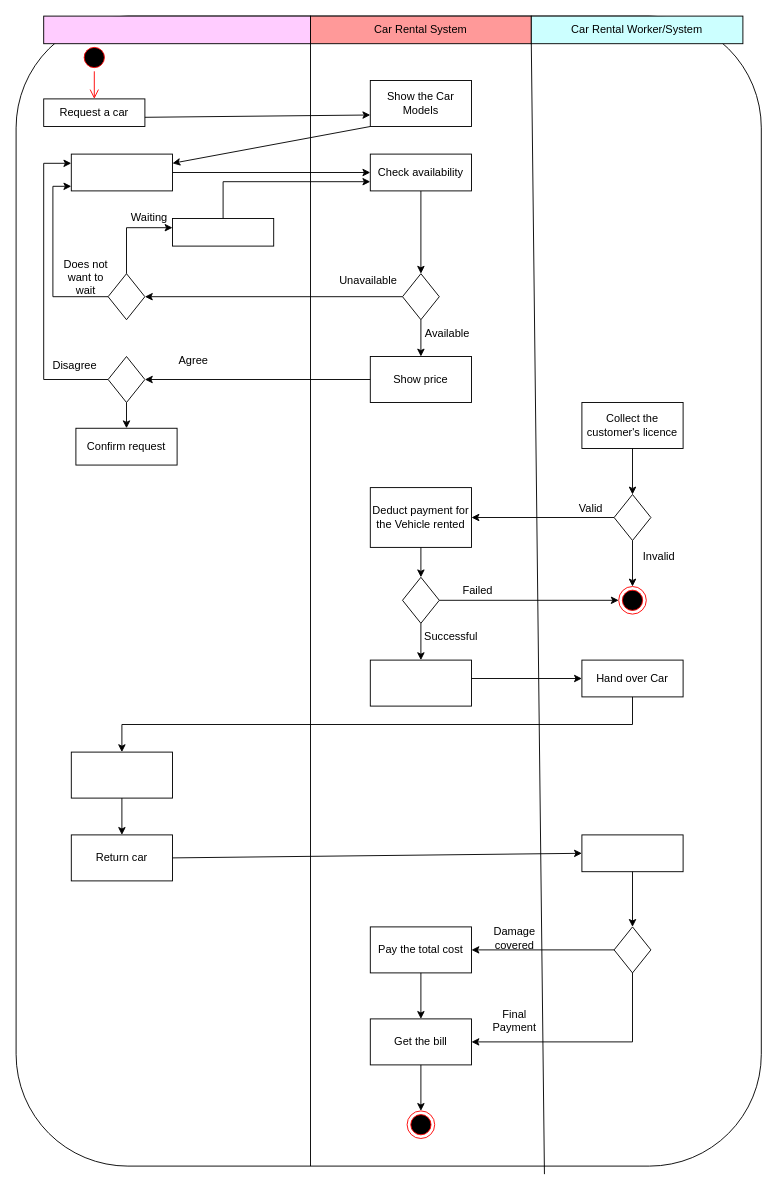
Image size: 777x1191. Some labels were removed from this diagram. Here are the shapes that lost their labels. From the top down, the box of each, then its label:
(43, 15, 310, 44): Customer
(70, 153, 172, 191): Choose a car
(172, 218, 274, 246): Wait
(369, 659, 472, 706): Register the car as rented
(70, 751, 172, 798): Drive car
(581, 834, 683, 872): Check the car
